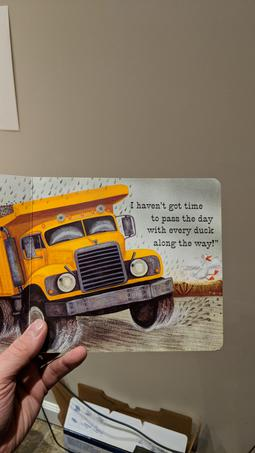text block: (130, 194, 220, 255)
